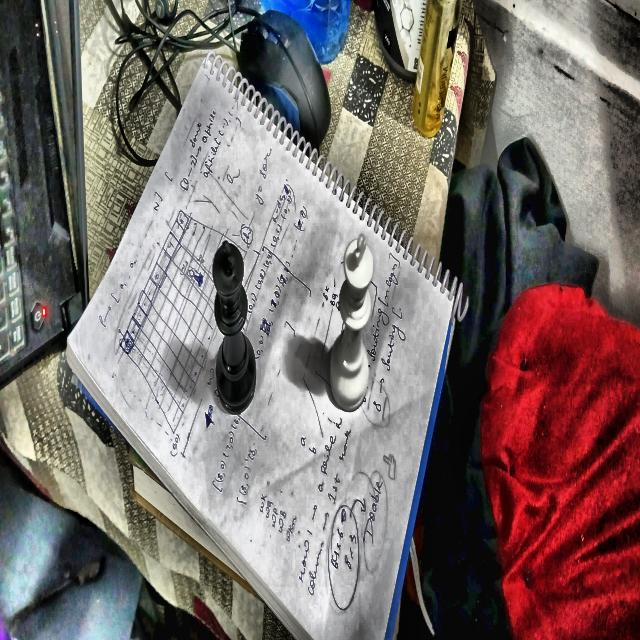BlackKing: (212, 241, 258, 412)
WhiteKing: (329, 234, 374, 413)
